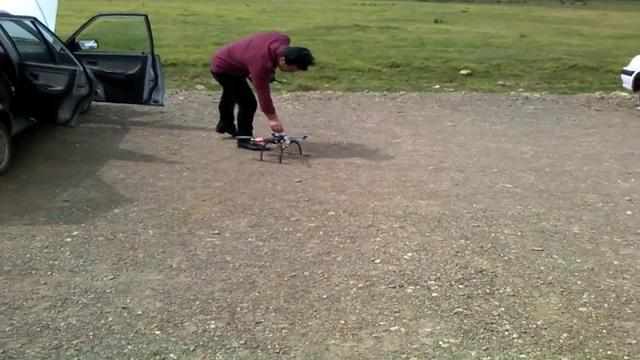drone: (234, 130, 310, 162)
